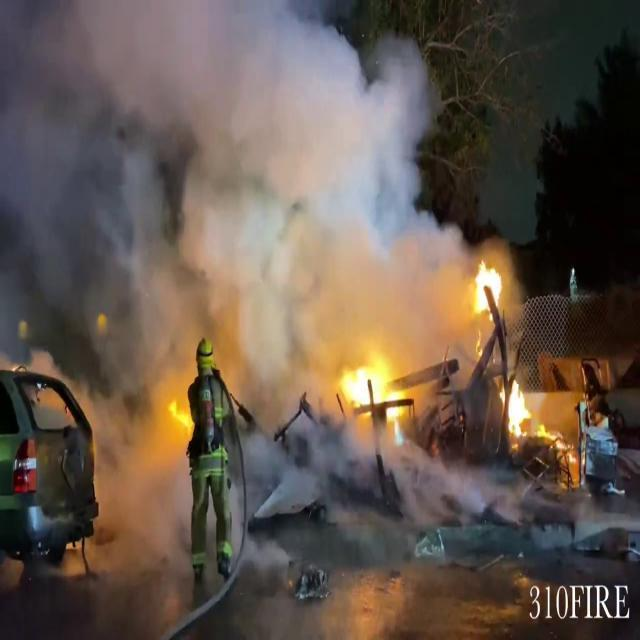Fire: (334, 346, 412, 432), (470, 254, 508, 320), (502, 377, 532, 442)
Smoke: (0, 0, 474, 396)
